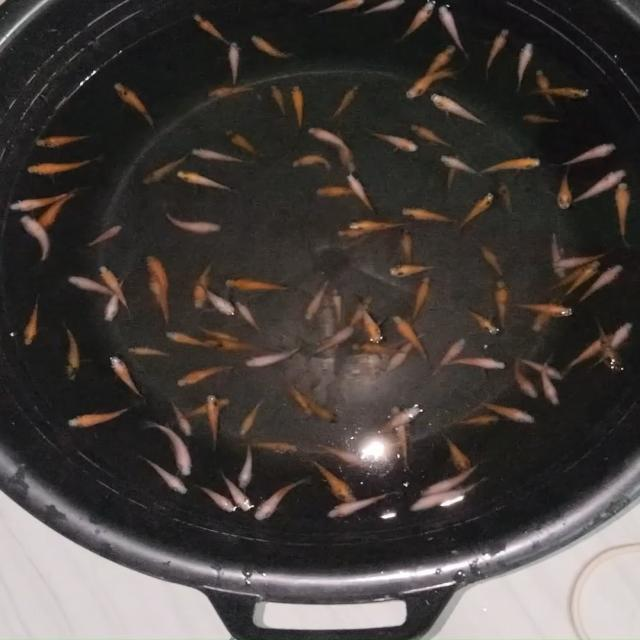nila: (140, 420, 194, 478), (252, 476, 312, 522), (410, 480, 486, 514), (107, 354, 152, 406), (138, 452, 192, 495), (418, 462, 482, 498), (111, 81, 156, 132), (433, 6, 472, 62), (571, 167, 627, 206), (311, 460, 360, 504), (578, 260, 626, 304), (400, 64, 457, 100), (98, 265, 136, 318), (386, 403, 416, 470), (429, 94, 488, 128), (326, 491, 394, 520), (176, 168, 244, 196), (595, 320, 633, 370), (566, 332, 616, 370), (20, 156, 104, 178), (609, 180, 635, 250), (191, 278, 234, 320), (384, 332, 429, 372), (314, 438, 372, 469), (370, 403, 424, 434), (6, 188, 72, 213), (394, 0, 436, 39), (142, 154, 190, 188), (100, 271, 130, 325), (552, 142, 619, 166), (392, 318, 430, 360), (217, 469, 255, 511), (163, 210, 224, 236), (19, 215, 50, 266), (354, 298, 386, 347), (144, 272, 173, 326), (220, 272, 290, 294), (428, 336, 468, 374), (512, 353, 566, 381), (38, 192, 76, 231), (564, 258, 600, 299), (475, 401, 536, 425), (176, 364, 237, 388), (406, 123, 458, 151), (64, 406, 130, 428), (458, 192, 494, 232), (440, 431, 472, 476), (180, 394, 234, 420), (597, 321, 623, 375), (399, 205, 469, 225), (244, 345, 302, 369), (347, 172, 380, 214), (511, 352, 538, 403), (476, 156, 544, 176), (538, 352, 562, 408), (144, 252, 170, 303), (306, 124, 350, 154), (315, 326, 355, 359), (224, 128, 268, 158), (30, 130, 96, 150), (196, 484, 237, 516), (250, 33, 295, 62), (191, 260, 216, 312), (328, 81, 363, 118), (424, 42, 458, 80), (484, 27, 511, 74), (352, 338, 415, 358), (446, 410, 506, 431), (192, 13, 230, 46), (365, 131, 419, 154), (477, 243, 508, 283), (85, 220, 126, 250), (203, 340, 271, 358), (234, 302, 270, 336), (302, 279, 329, 324), (331, 130, 359, 173), (68, 276, 122, 298), (188, 146, 246, 166), (284, 381, 316, 417), (547, 231, 569, 283), (237, 397, 264, 439), (169, 398, 196, 440), (515, 298, 578, 316), (546, 266, 586, 294), (200, 82, 260, 100), (310, 186, 386, 200), (348, 294, 376, 332), (549, 251, 605, 270), (530, 296, 558, 334), (438, 156, 486, 178), (411, 274, 432, 324), (492, 280, 513, 330), (307, 0, 367, 17), (514, 41, 534, 91), (396, 230, 421, 270), (300, 397, 340, 422), (65, 326, 81, 388), (126, 341, 178, 360), (240, 440, 300, 456), (22, 294, 40, 347), (196, 326, 243, 346), (344, 218, 406, 233), (205, 394, 221, 451), (360, 0, 412, 17), (466, 309, 498, 336), (237, 443, 255, 491), (532, 86, 593, 100), (288, 153, 335, 171), (442, 152, 462, 194), (270, 84, 292, 122), (386, 262, 438, 278), (164, 331, 214, 347), (288, 82, 306, 126), (443, 356, 508, 368), (535, 68, 555, 106), (554, 170, 573, 210), (330, 285, 348, 324), (497, 182, 517, 216), (332, 226, 384, 239), (521, 111, 563, 125), (230, 39, 240, 87)
